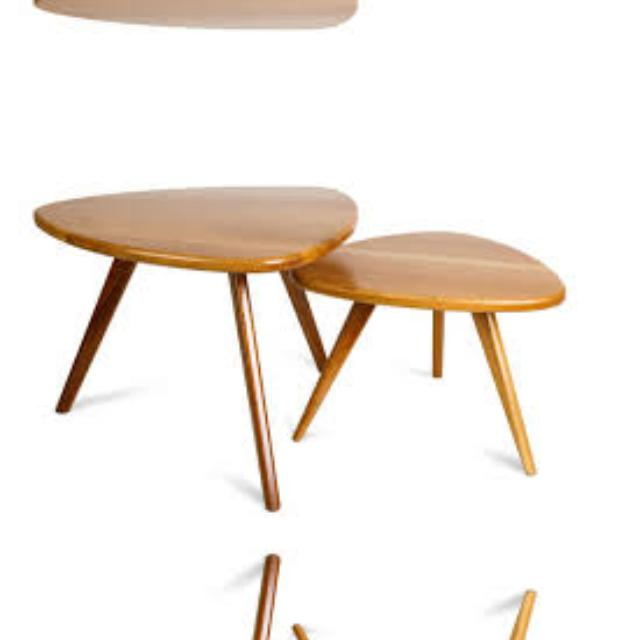obstacle: (17, 134, 593, 524), (17, 542, 593, 640), (17, 0, 593, 80)
